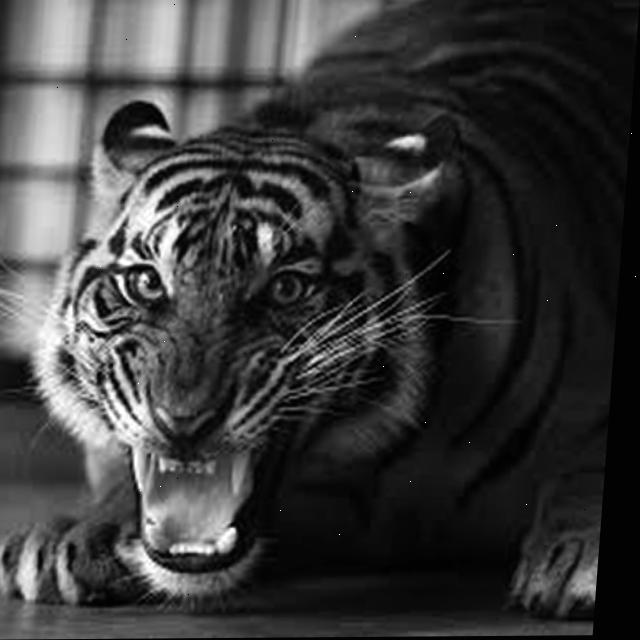Tiger: (0, 0, 639, 626)
